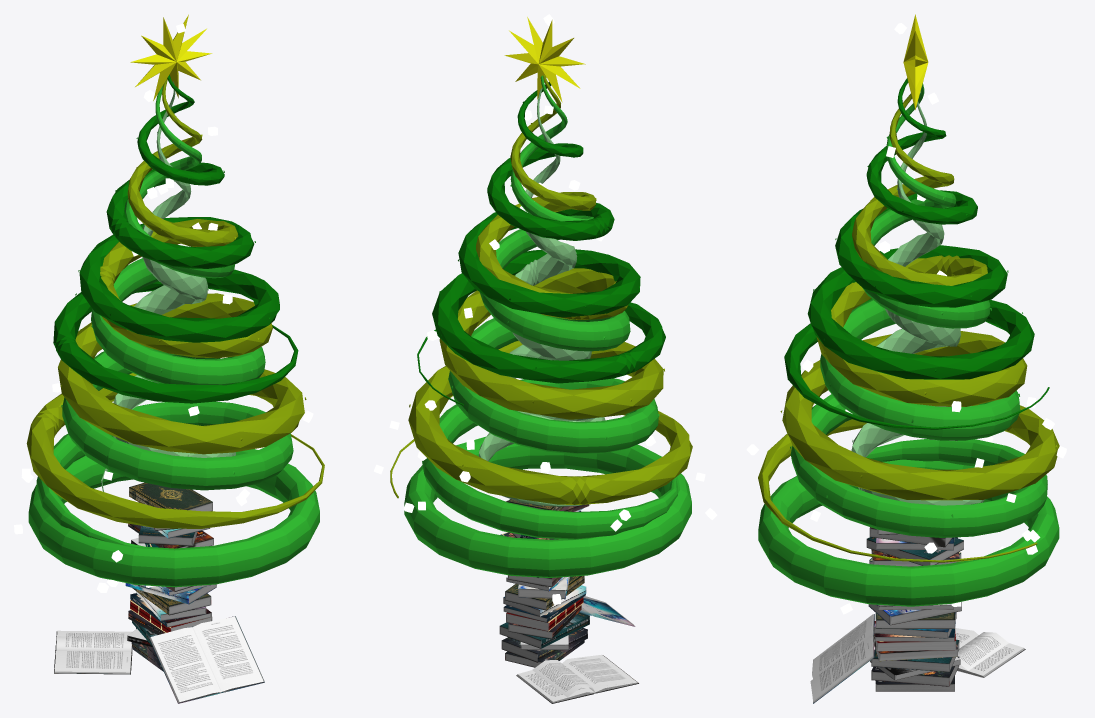
File: Egle1.gltf
The picture shows the model from 3 angles, left to right: view 1: azimuth 30°, elevation 25°; view 2: azimuth 150°, elevation 25°; view 3: azimuth 270°, elevation 25°; orthographic projection. The views are drawn at different scales.
Visible parts, largest first — view 1: jolka s igruskami.001, jolka s igruskami.002, jolka s igruskami.003, BookO1, jolka s igruskami.004, BookO2, Zvaigzde, Book9, Book10, Book18, Book11, Book5 (+2 smaller); view 2: jolka s igruskami.001, jolka s igruskami.002, jolka s igruskami.003, jolka s igruskami.004, BookO2, Zvaigzde, Book19, Book2, Book10, Book5, BookO1, Book15 (+2 smaller); view 3: jolka s igruskami.001, jolka s igruskami.002, jolka s igruskami.003, jolka s igruskami.004, BookO1, BookO2, Zvaigzde, Book18, Book19, Book2, Book11, Book10 (+7 smaller).
Part boxes in pixels (left/top/right/bottom): jolka s igruskami.001: left=28, top=86, right=319, bottom=587; jolka s igruskami.002: left=26, top=78, right=324, bottom=528; jolka s igruskami.003: left=53, top=74, right=298, bottom=403; BookO1: left=148, top=616, right=264, bottom=703; jolka s igruskami.004: left=101, top=81, right=235, bottom=491; BookO2: left=54, top=630, right=132, bottom=674; Zvaigzde: left=130, top=14, right=212, bottom=100; Book9: left=129, top=482, right=212, bottom=511; Book10: left=132, top=588, right=211, bottom=615; Book18: left=138, top=526, right=197, bottom=545; Book11: left=125, top=583, right=216, bottom=604; Book5: left=130, top=600, right=212, bottom=632; jolka s igruskami.001: left=404, top=75, right=691, bottom=577; jolka s igruskami.002: left=390, top=75, right=692, bottom=504; jolka s igruskami.003: left=417, top=82, right=665, bottom=405; jolka s igruskami.004: left=478, top=88, right=605, bottom=506; BookO2: left=516, top=654, right=638, bottom=703; Zvaigzde: left=504, top=17, right=585, bottom=102; Book19: left=499, top=612, right=589, bottom=648; Book2: left=501, top=628, right=587, bottom=662; Book10: left=505, top=575, right=584, bottom=610; Book5: left=506, top=597, right=583, bottom=631; BookO1: left=579, top=596, right=635, bottom=626; Book15: left=508, top=605, right=581, bottom=639; jolka s igruskami.001: left=758, top=83, right=1059, bottom=606; jolka s igruskami.002: left=758, top=93, right=1059, bottom=562; jolka s igruskami.003: left=784, top=78, right=1049, bottom=429; jolka s igruskami.004: left=851, top=101, right=984, bottom=505; BookO1: left=810, top=614, right=874, bottom=703; BookO2: left=955, top=628, right=1025, bottom=677; Zvaigzde: left=903, top=14, right=928, bottom=109; Book18: left=866, top=537, right=963, bottom=565; Book19: left=871, top=639, right=959, bottom=672; Book2: left=871, top=656, right=959, bottom=686; Book11: left=868, top=601, right=961, bottom=625; Book10: left=875, top=612, right=955, bottom=628.
Bounding box in the file's own units: 77.67 × 152 × 69.15.
7 materials, 1 textured.
